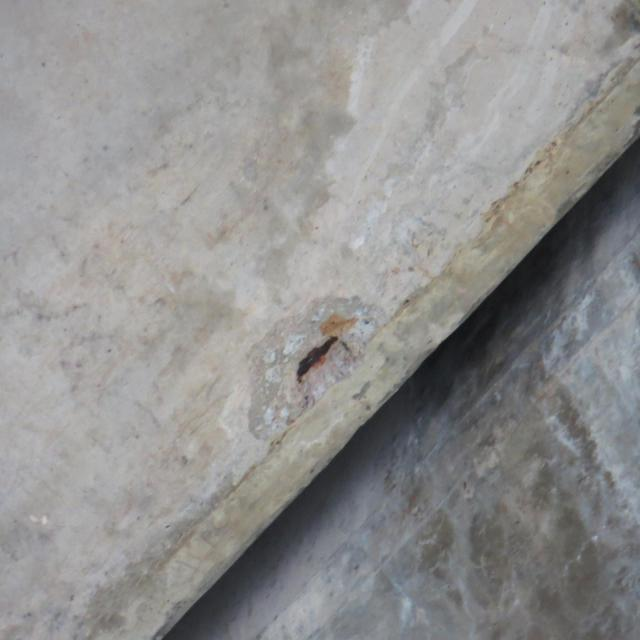Rebar: (246, 292, 387, 443)
